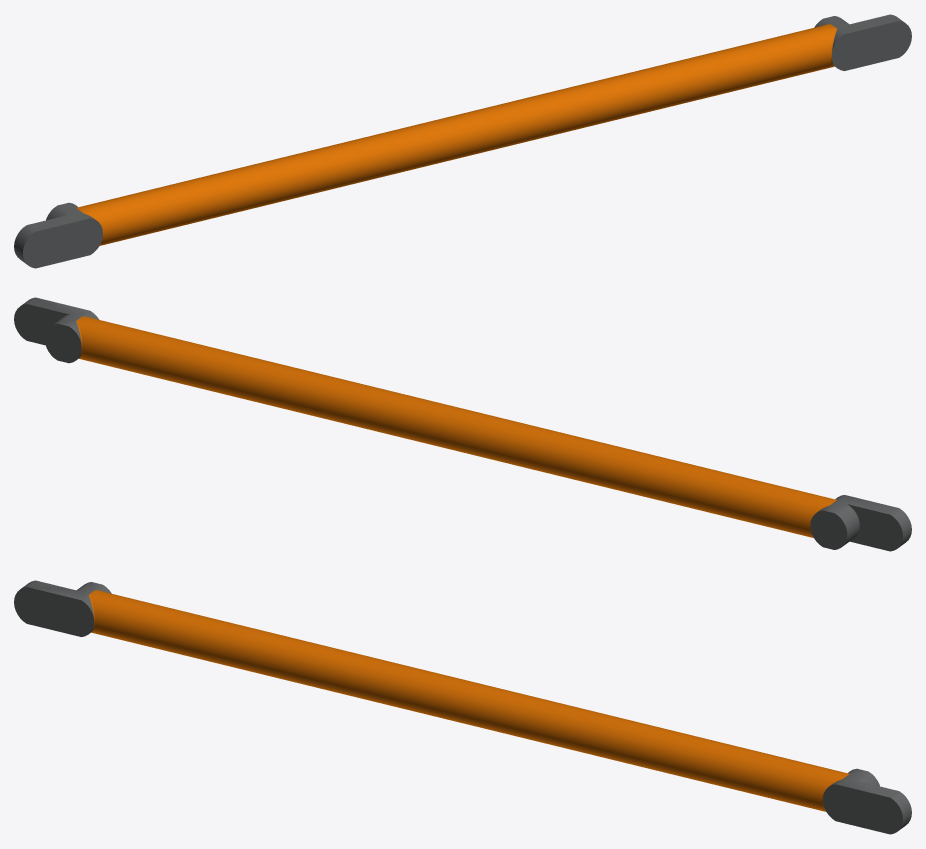
The picture shows the model from 3 angles, top to bottom: view 1: azimuth 30°, elevation 25°; view 2: azimuth 150°, elevation 25°; view 3: azimuth 330°, elevation 25°; orthographic projection.
Parts seen in each view (by area): view 1: d4_LOD0, d4_col; view 2: d4_LOD0, d4_col; view 3: d4_LOD0, d4_col.
Part boxes in pixels (box(x1,y1,x2,y2)): d4_LOD0: box(14, 14, 911, 268); d4_col: box(23, 15, 911, 266); d4_LOD0: box(14, 297, 911, 551); d4_col: box(14, 298, 902, 549); d4_LOD0: box(14, 580, 911, 834); d4_col: box(15, 580, 902, 833).
Size of what is drawn, in the model's own units: 288 by 11.93 by 12.
